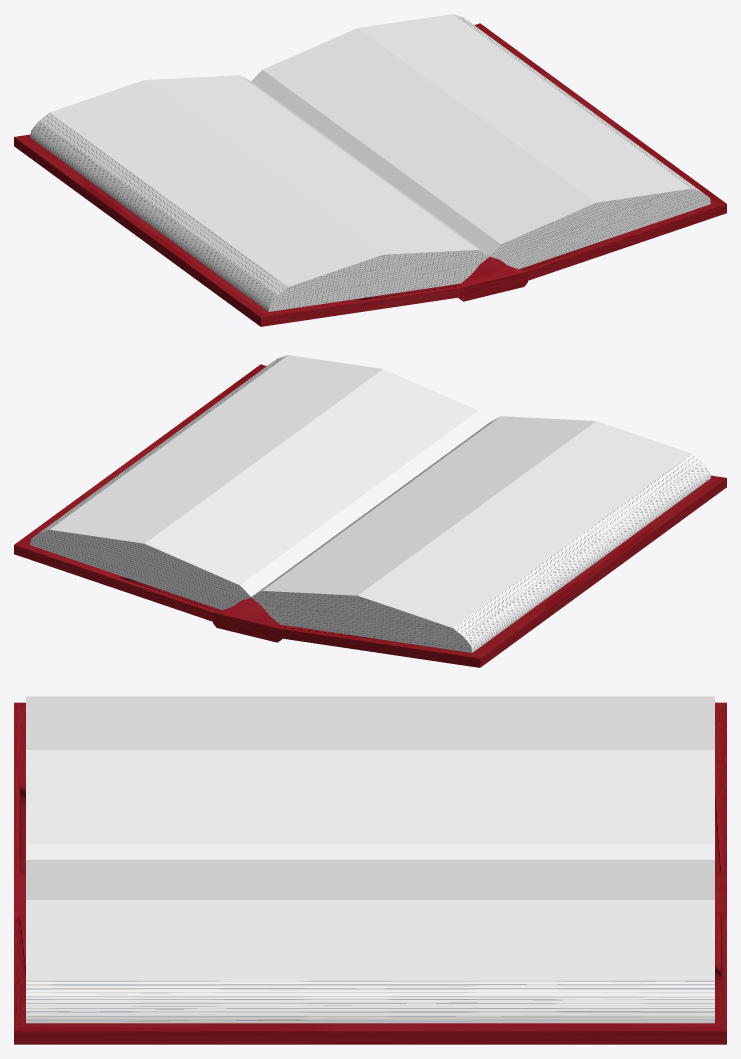
Rendered from BookBlank.fbx.
3 views of the same model, one above another, from view 1: azimuth 30°, elevation 25°; view 2: azimuth 150°, elevation 25°; view 3: azimuth 270°, elevation 25° (orthographic). The views are drawn at different scales.
Parts seen in each view (by area): view 1: BookBlank; view 2: BookBlank; view 3: BookBlank.
Part boxes in pixels (left/top/right/bottom): BookBlank: left=14, top=14, right=726, bottom=326; BookBlank: left=14, top=355, right=726, bottom=667; BookBlank: left=14, top=696, right=726, bottom=1044.
Size of the model in its own units: 1.09 by 0.1398 by 1.
2 materials, 2 textured.
